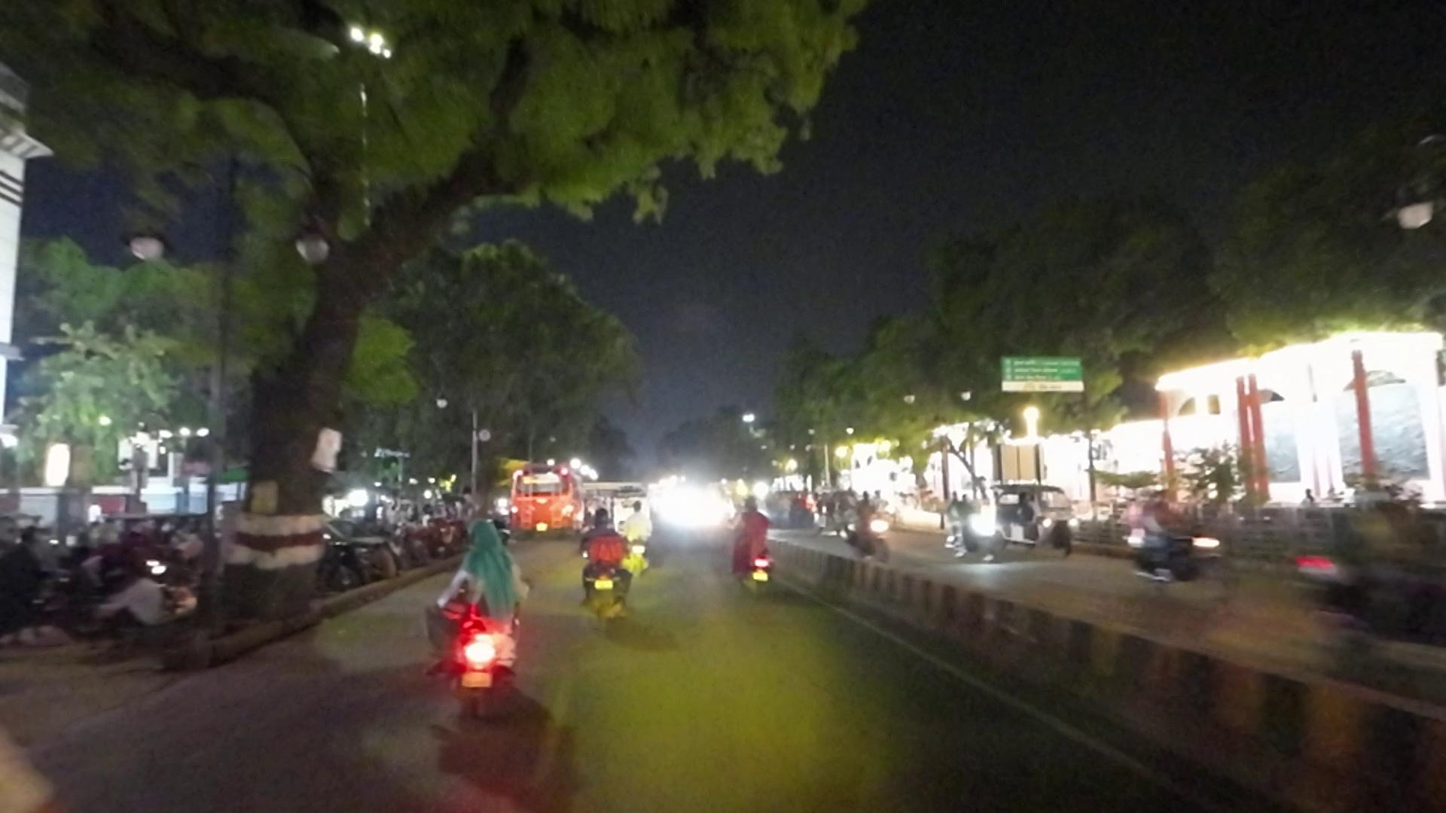streetlight: (279, 208, 353, 277), (120, 211, 186, 273), (1386, 178, 1446, 244)
